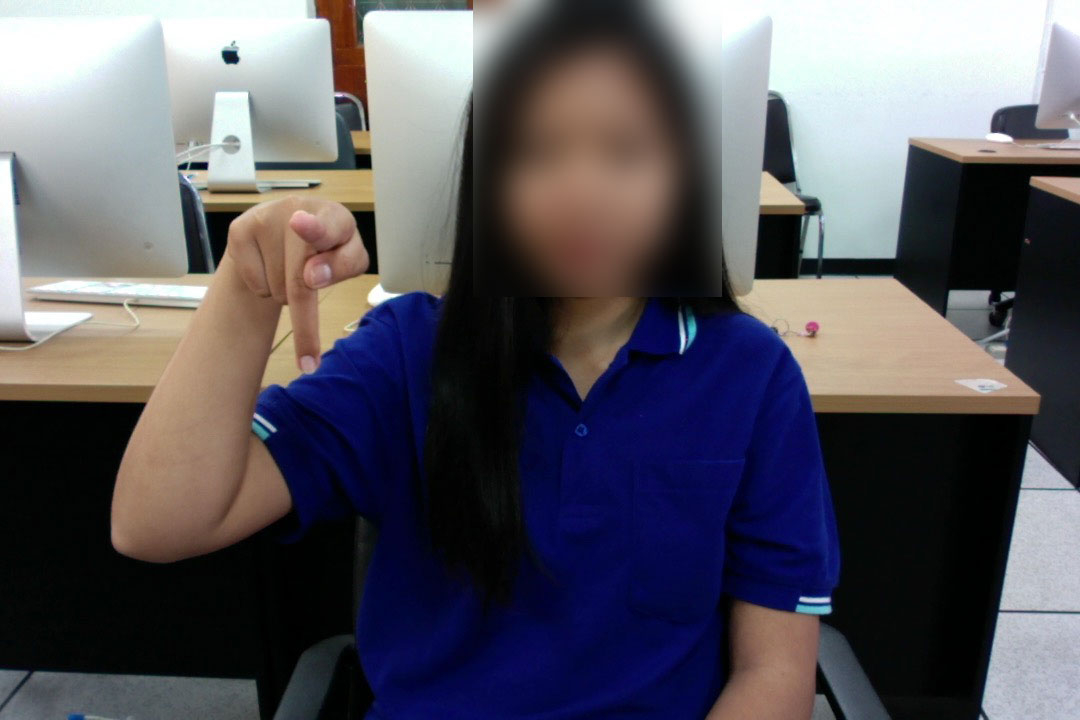por: (220, 186, 375, 382)
